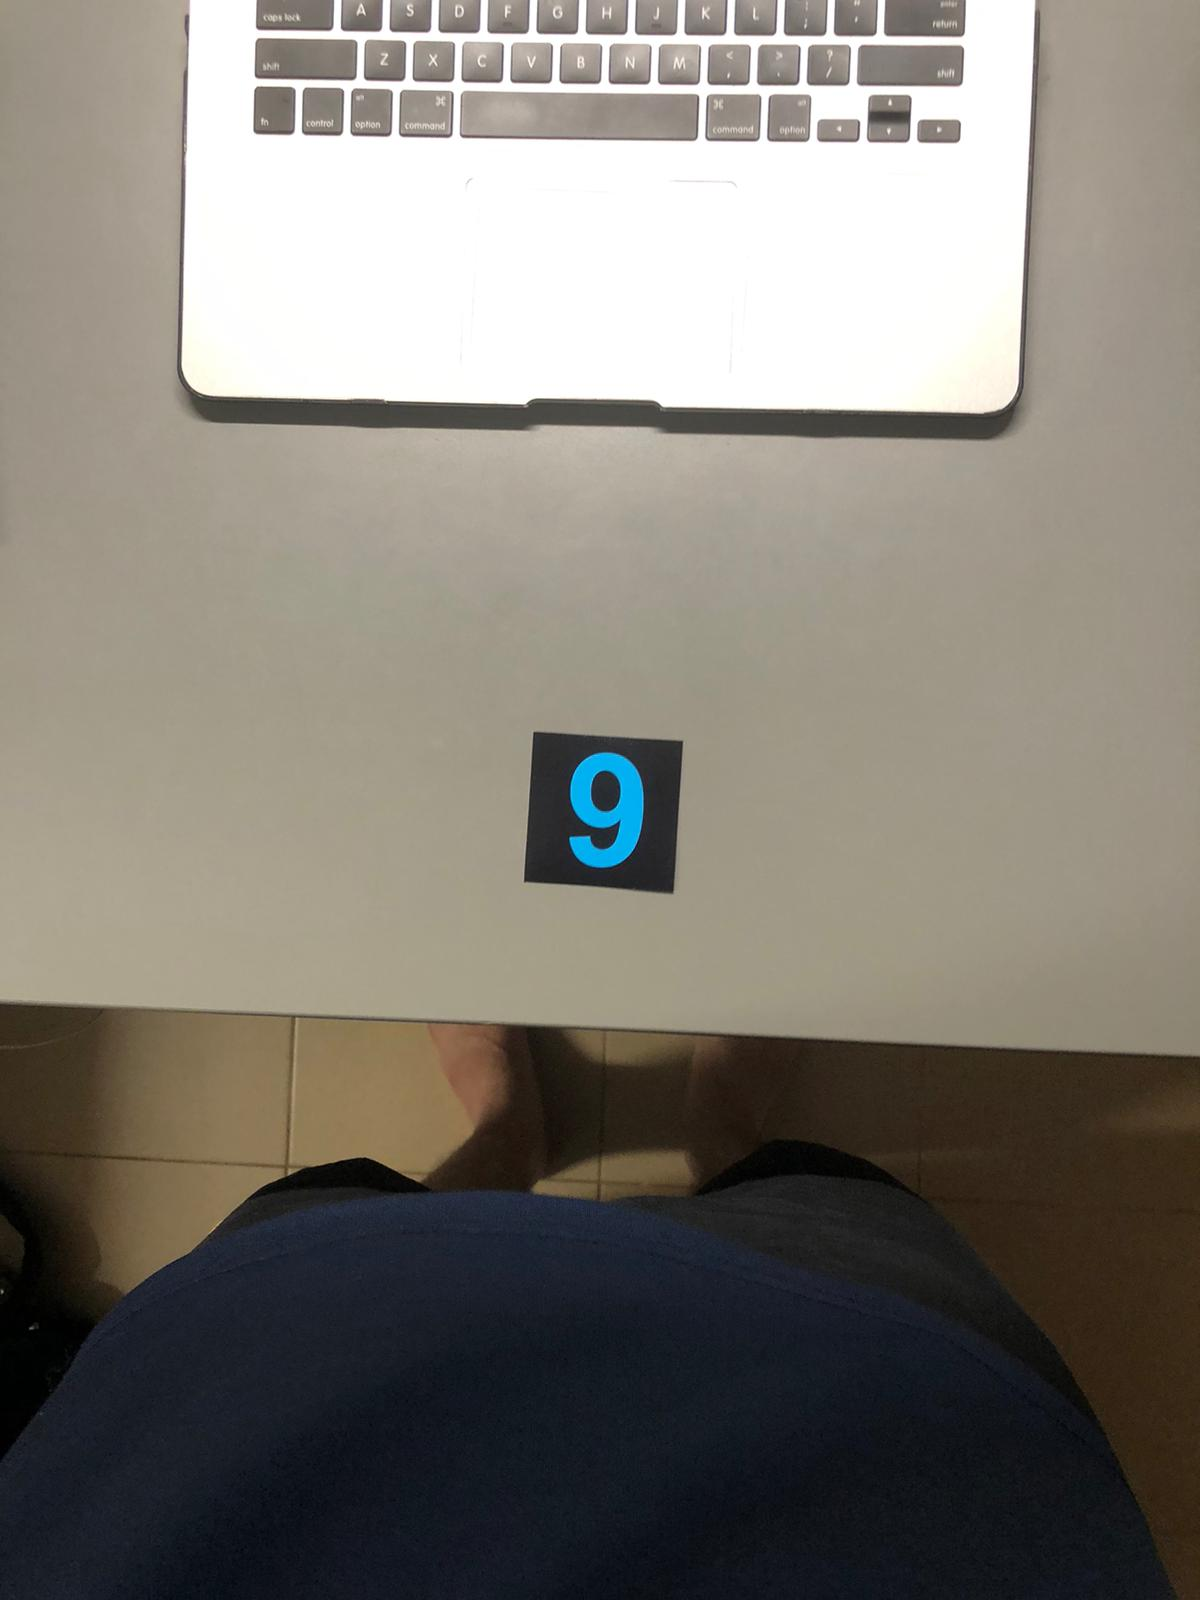Number 9: (532, 733, 671, 894)
